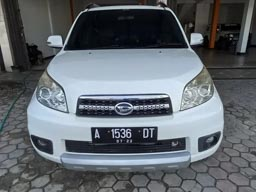plat: (92, 127, 156, 140)
